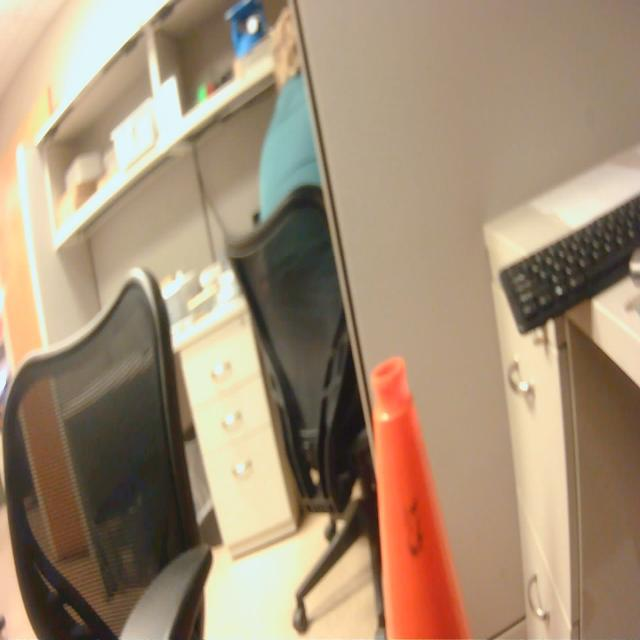traffic cone: (366, 349, 481, 640)
